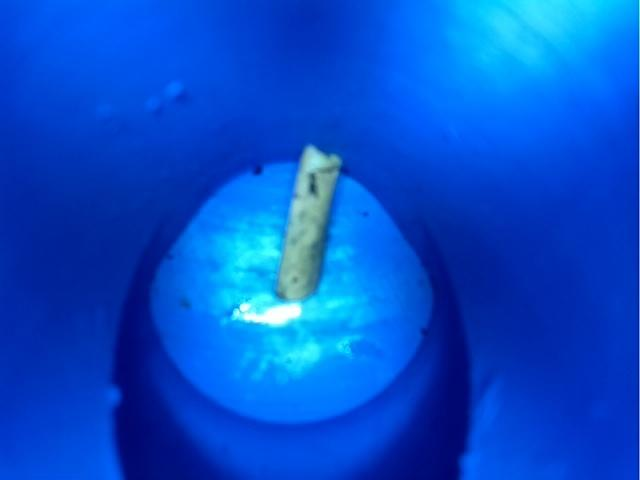megot: (268, 140, 349, 302)
